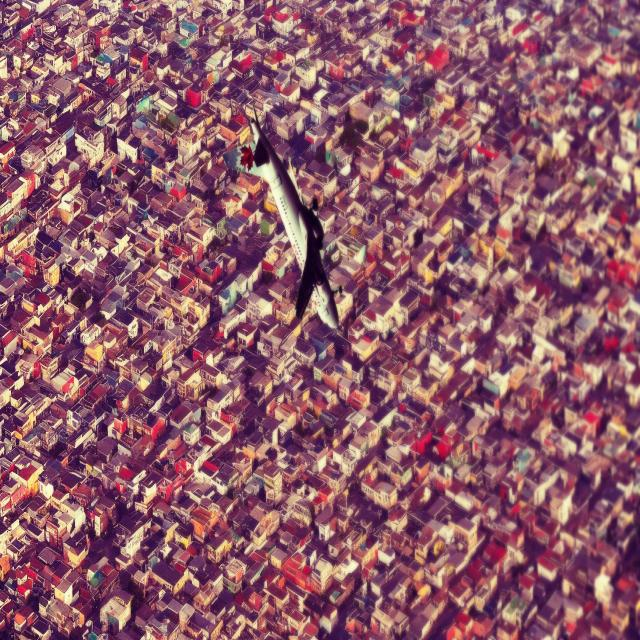airplane: (249, 103, 341, 332)
